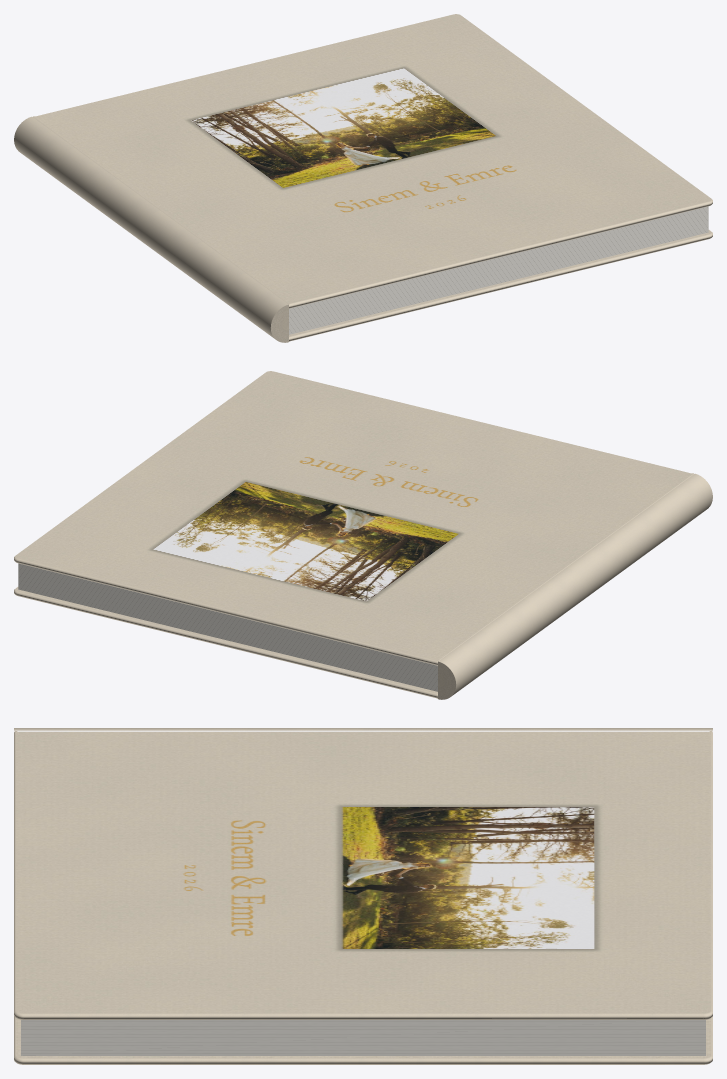
The model's file is album.glb.
The picture shows the model from 3 angles, top to bottom: view 1: azimuth 30°, elevation 25°; view 2: azimuth 150°, elevation 25°; view 3: azimuth 270°, elevation 25°; orthographic projection. The views are drawn at different scales.
Parts seen in each view (by area): view 1: Album; view 2: Album; view 3: Album.
Part boxes in pixels (x1=…): Album: x1=14, y1=14, x2=712, y2=342; Album: x1=14, y1=371, x2=712, y2=699; Album: x1=14, y1=728, x2=712, y2=1064.
Bounding box in the file's own units: 0.3 × 0.0244 × 0.3.
Materials: 3 (3 with a texture image).
